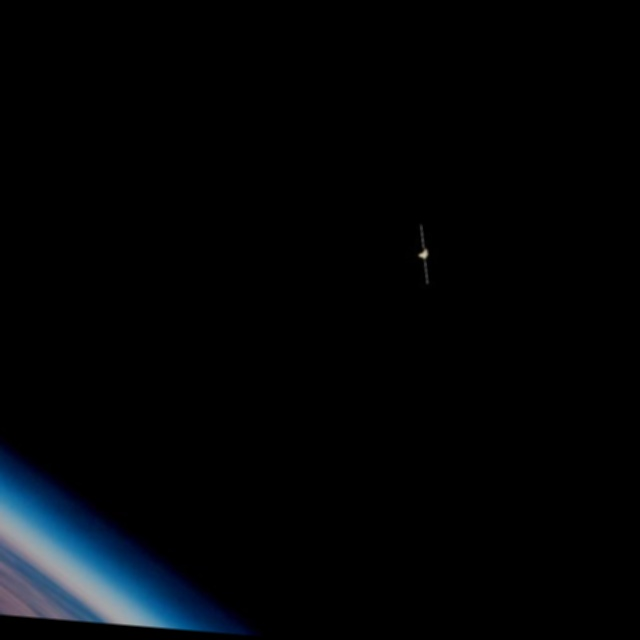satellite: (373, 202, 455, 307)
